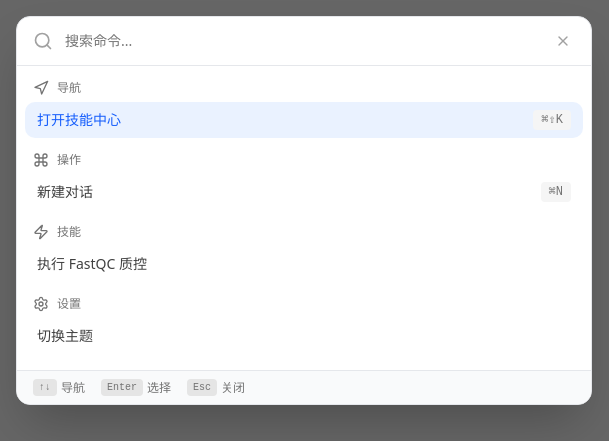
it: CommandPalette › Search › should show no results message when no matches
The image size is (609, 441).
Step 1. Type "不存在的命令" into the field with placeholder "搜索命令..." → (302, 41), box [65,31,539,51]
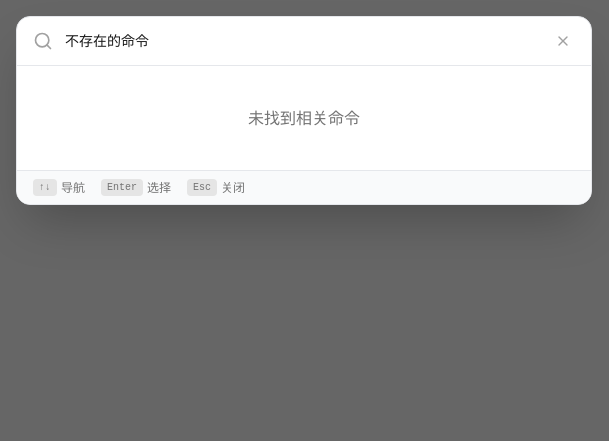
Expected: the text "未找到相关命令" is shown, [248,107,360,129]
